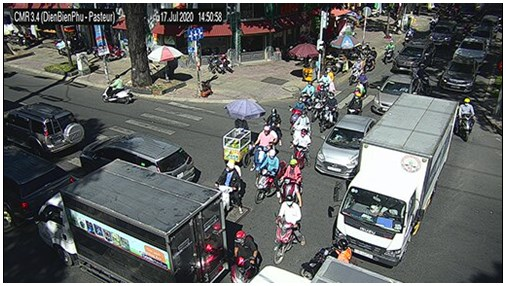xe_hang_rong: (223, 100, 254, 166)
xe_hoi: (4, 146, 74, 234), (80, 132, 195, 181), (3, 102, 84, 155), (314, 114, 377, 179), (371, 73, 419, 114), (393, 37, 436, 71), (439, 57, 477, 93), (452, 36, 488, 63), (428, 19, 455, 48)
xe_may: (273, 195, 305, 266), (301, 240, 352, 278), (231, 230, 261, 284), (215, 160, 245, 213), (254, 149, 281, 203), (280, 158, 304, 206), (101, 74, 133, 105), (289, 128, 311, 170), (319, 93, 339, 132), (458, 97, 475, 142), (263, 109, 283, 143), (414, 63, 432, 95), (292, 112, 311, 142), (257, 125, 277, 153), (289, 97, 306, 127), (345, 88, 362, 117), (349, 58, 363, 85), (356, 70, 369, 98), (318, 69, 333, 93), (300, 83, 315, 107), (364, 47, 377, 71), (384, 41, 394, 63)
xe_tai: (37, 158, 230, 284), (334, 91, 458, 268)
